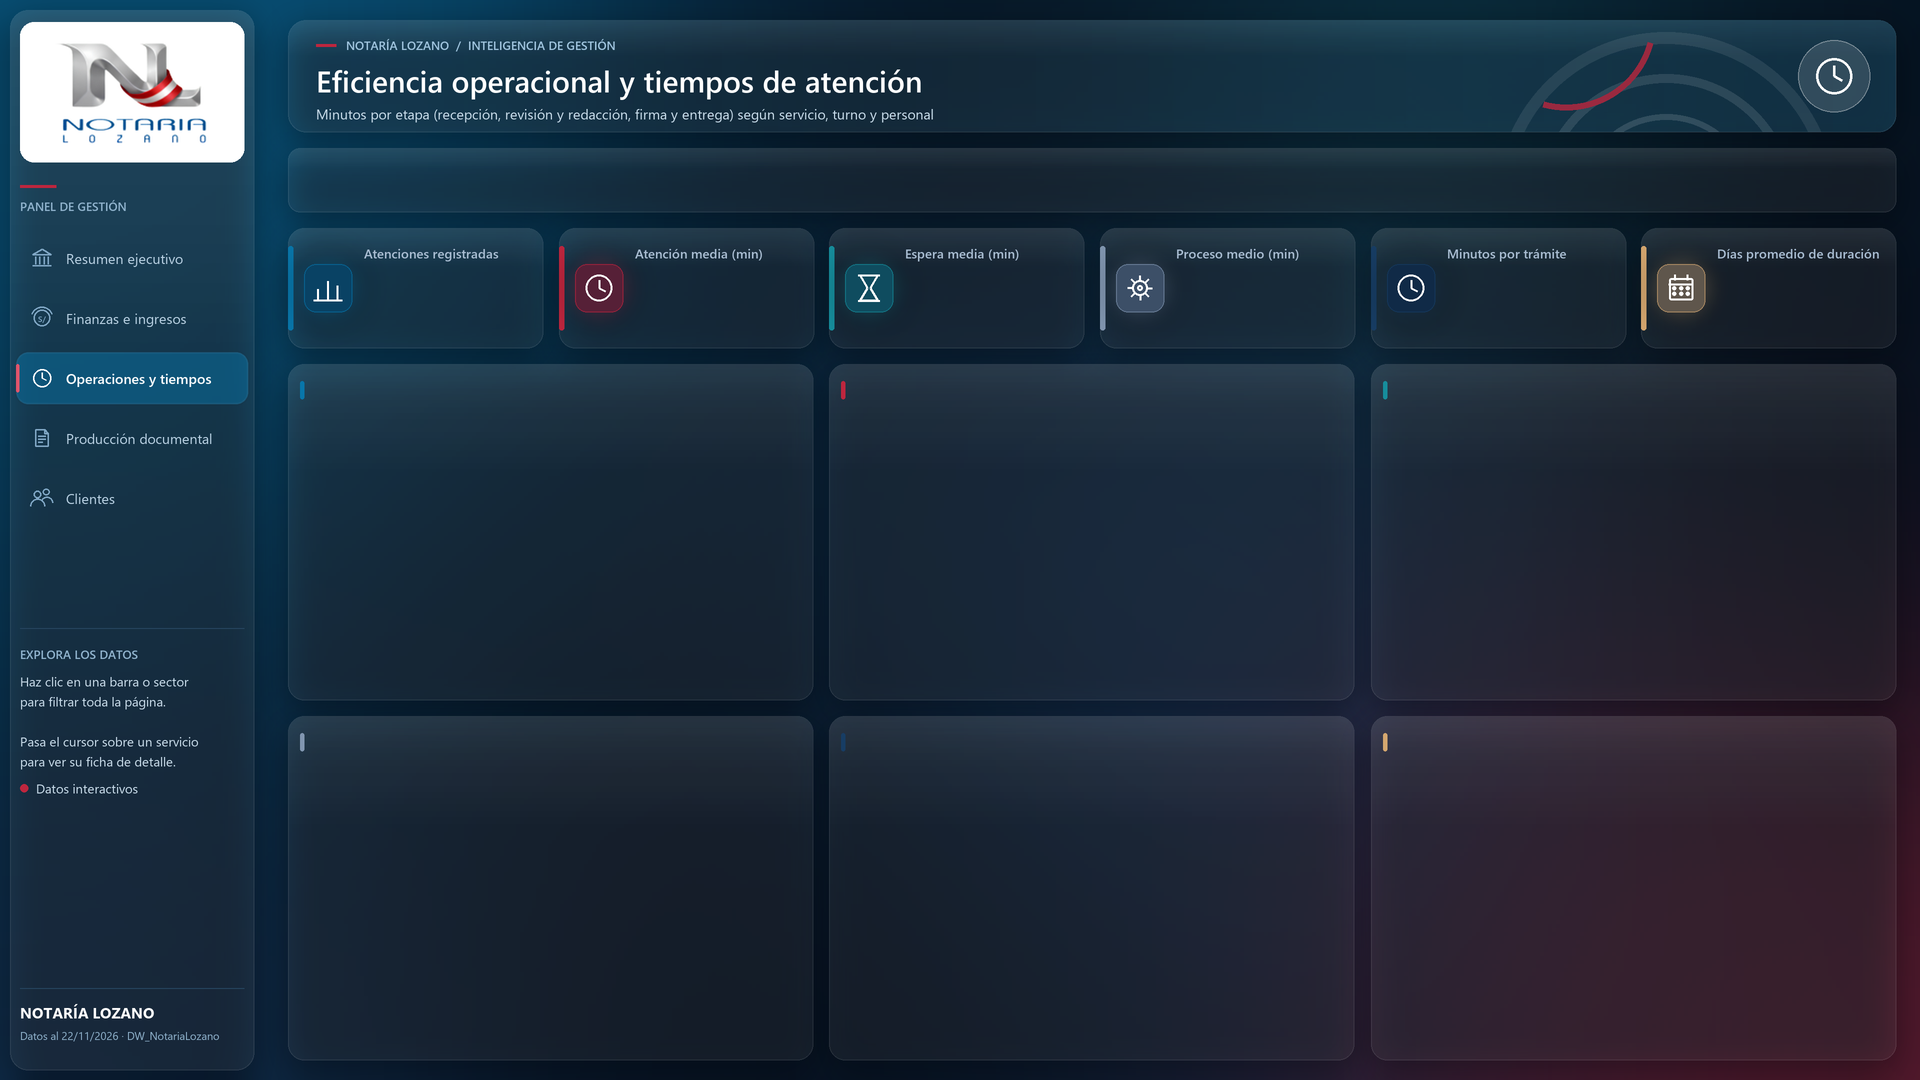

The page's visual inventory and layout, read from the dashboard file:
{"tool":"powerbi","page":{"name":"Eficiencia operacional y tiempos de atención","canvas":[1920,1280],"ordinal":1},"visuals":[{"type":"textbox","box":[302,67,1400,52],"z":0},{"type":"textbox","box":[304,123,1450,40],"z":1},{"type":"slicer","fields":{"Values":["DIM_TIEMPO.Anio"]},"box":[296,216,303.2,61],"z":3},{"type":"slicer","fields":{"Values":["DIM_TIEMPO.Nombre_Mes"]},"box":[613.2,216,303.2,61],"z":4},{"type":"slicer","fields":{"Values":["DIM_SERVICIO.Nombre_Tramite"]},"box":[930.4,216,303.2,61],"z":5},{"type":"slicer","fields":{"Values":["DIM_ETAPA_TRAMITE.Nombre_Etapa"]},"box":[1247.6,216,303.2,61],"z":6},{"type":"slicer","fields":{"Values":["DIM_PERSONAL.Nombre_Completo"]},"box":[1564.8,216,303.2,61],"z":7},{"type":"card","fields":{"Values":["FACT_TIEMPOS_ATENCION.Atencion media minutos"]},"box":[280,310,308,122],"z":8},{"type":"card","fields":{"Values":["FACT_TIEMPOS_ATENCION.Atenciones registradas"]},"box":[604,310,308,122],"z":9},{"type":"card","fields":{"Values":["FACT_TIEMPOS_ATENCION.Atencion minima minutos"]},"box":[928,310,308,122],"z":10},{"type":"card","fields":{"Values":["FACT_TIEMPOS_ATENCION.Atencion maxima minutos"]},"box":[1252,310,308,122],"z":11},{"type":"card","fields":{"Values":["FACT_TIEMPOS_ATENCION.Espera media minutos"]},"box":[1576,310,308,122],"z":12},{"type":"textbox","box":[295.5,1232.6,1580.2,17.4],"z":13},{"type":"lineChart","title":"Evolución mensual de la atención media","fields":{"Category":["DIM_TIEMPO.Nombre_Mes"],"Y":["FACT_TIEMPOS_ATENCION.Atencion media minutos"]},"box":[306,494,492,214],"z":14},{"type":"clusteredBarChart","title":"Atención media por servicio","fields":{"Category":["DIM_SERVICIO.Nombre_Tramite"],"Y":["FACT_TIEMPOS_ATENCION.Atencion media minutos"]},"box":[846,494,492,214],"z":15},{"type":"clusteredBarChart","title":"Atención media por responsable","fields":{"Category":["DIM_PERSONAL.Nombre_Completo"],"Y":["FACT_TIEMPOS_ATENCION.Atencion media minutos"]},"box":[1386,494,492,214],"z":16},{"type":"clusteredColumnChart","title":"Atenciones registradas por mes","fields":{"Category":["DIM_TIEMPO.Nombre_Mes"],"Y":["FACT_TIEMPOS_ATENCION.Atenciones registradas"]},"box":[306,744,492,214],"z":17},{"type":"clusteredColumnChart","title":"Frecuencia por duración declarada (min)","fields":{"Category":["FACT_TIEMPOS_ATENCION.Minutos_Totales"],"Y":["FACT_TIEMPOS_ATENCION.Atenciones registradas"]},"box":[846,744,492,214],"z":18},{"type":"clusteredBarChart","title":"Espera media por etapa","fields":{"Category":["DIM_ETAPA_TRAMITE.Nombre_Etapa"],"Y":["FACT_TIEMPOS_ATENCION.Espera media minutos"]},"box":[1386,744,492,214],"z":19},{"type":"tableEx","title":"Detalle operativo agrupado · duración declarada y carga de trabajo","fields":{"Values":["DIM_TIEMPO.Fecha_Exacta","DIM_SERVICIO.Nombre_Tramite","DIM_PERSONAL.Nombre_Completo","DIM_ETAPA_TRAMITE.Nombre_Etapa","FACT_TIEMPOS_ATENCION.Atenciones registradas","FACT_TIEMPOS_ATENCION.Atencion media minutos","FACT_TIEMPOS_ATENCION.Espera media minutos","FACT_TIEMPOS_ATENCION.Proceso medio minutos"]},"box":[295.5,979.8,1572.3,270.2],"z":20},{"type":"actionButton","box":[24,685,196,44],"z":23},{"type":"actionButton","box":[24,260,196,76],"z":40},{"type":"actionButton","box":[24,352,196,76],"z":41},{"type":"actionButton","box":[24,444,196,76],"z":42}]}

Visuals, with their boxes on the page's 1920x1280 design canvas (x1, y1, x2, y2). These are canvas units, not pixel positions in the 1920x1080 screenshot, which may show the page scaled, cropped or inside an application window:
textbox: (left=302, top=67, right=1702, bottom=119)
textbox: (left=304, top=123, right=1754, bottom=163)
slicer - DIM_TIEMPO.Anio: (left=296, top=216, right=599, bottom=277)
slicer - DIM_TIEMPO.Nombre_Mes: (left=613, top=216, right=916, bottom=277)
slicer - DIM_SERVICIO.Nombre_Tramite: (left=930, top=216, right=1234, bottom=277)
slicer - DIM_ETAPA_TRAMITE.Nombre_Etapa: (left=1248, top=216, right=1551, bottom=277)
slicer - DIM_PERSONAL.Nombre_Completo: (left=1565, top=216, right=1868, bottom=277)
card - FACT_TIEMPOS_ATENCION.Atencion media minutos: (left=280, top=310, right=588, bottom=432)
card - FACT_TIEMPOS_ATENCION.Atenciones registradas: (left=604, top=310, right=912, bottom=432)
card - FACT_TIEMPOS_ATENCION.Atencion minima minutos: (left=928, top=310, right=1236, bottom=432)
card - FACT_TIEMPOS_ATENCION.Atencion maxima minutos: (left=1252, top=310, right=1560, bottom=432)
card - FACT_TIEMPOS_ATENCION.Espera media minutos: (left=1576, top=310, right=1884, bottom=432)
textbox: (left=296, top=1233, right=1876, bottom=1250)
"Evolución mensual de la atención media" lineChart: (left=306, top=494, right=798, bottom=708)
"Atención media por servicio" clusteredBarChart: (left=846, top=494, right=1338, bottom=708)
"Atención media por responsable" clusteredBarChart: (left=1386, top=494, right=1878, bottom=708)
"Atenciones registradas por mes" clusteredColumnChart: (left=306, top=744, right=798, bottom=958)
"Frecuencia por duración declarada (min)" clusteredColumnChart: (left=846, top=744, right=1338, bottom=958)
"Espera media por etapa" clusteredBarChart: (left=1386, top=744, right=1878, bottom=958)
"Detalle operativo agrupado · duración declarada y carga de trabajo" tableEx: (left=296, top=980, right=1868, bottom=1250)
actionButton: (left=24, top=685, right=220, bottom=729)
actionButton: (left=24, top=260, right=220, bottom=336)
actionButton: (left=24, top=352, right=220, bottom=428)
actionButton: (left=24, top=444, right=220, bottom=520)
